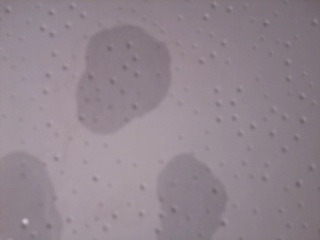Water_detected: (77, 41, 158, 123), (5, 160, 59, 238), (165, 167, 204, 224)
